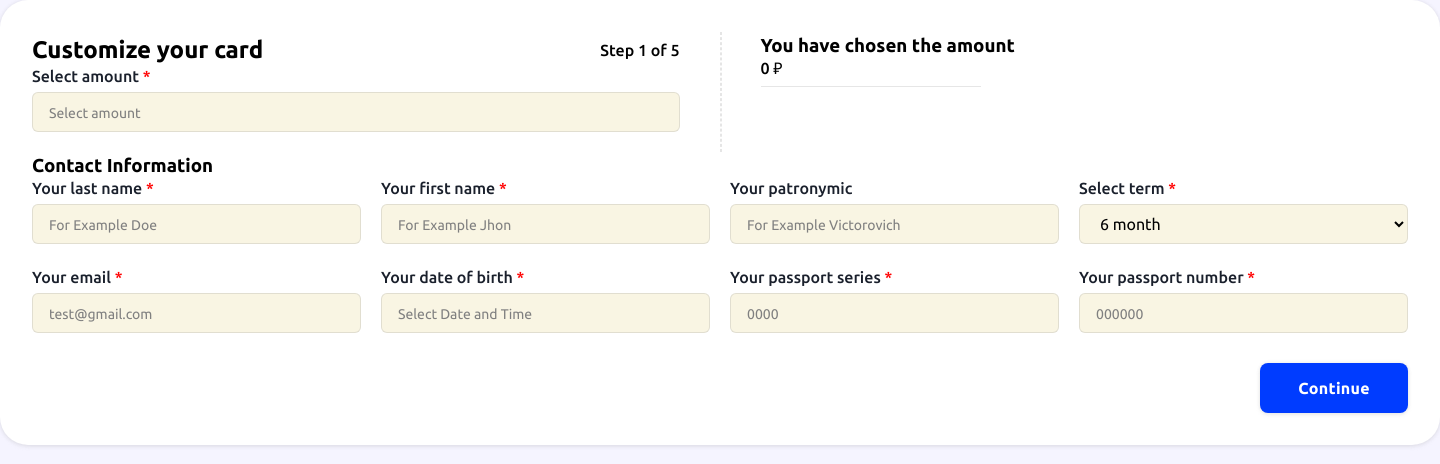
Prescoring › Invalid date of date birth
Click the button: point(1334, 388) [1260,363,1408,413]
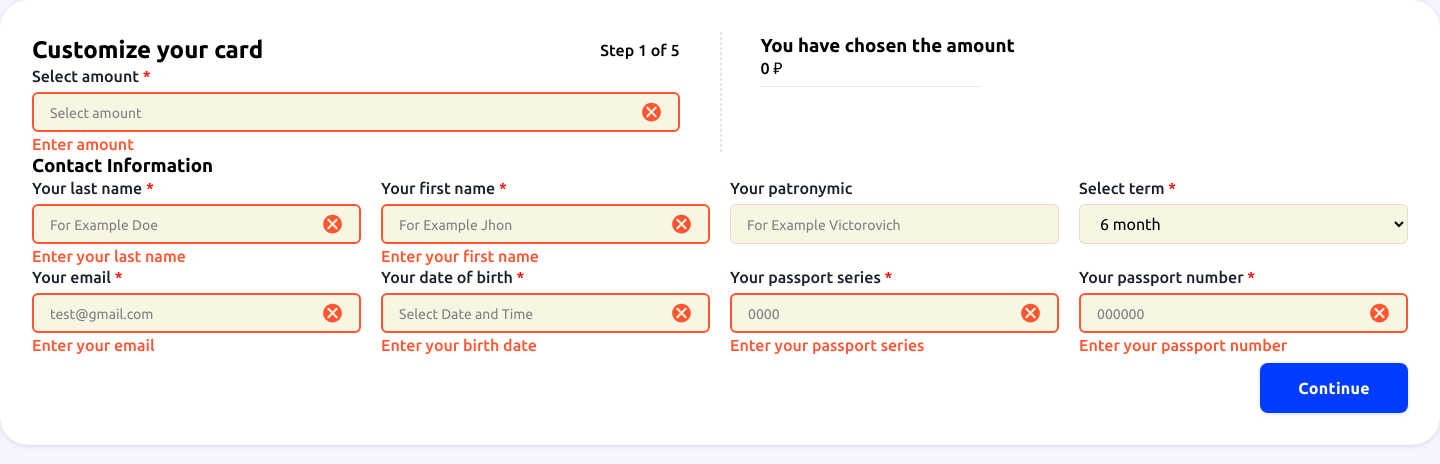
In the field with placeholder "Select Date and Time": point(546, 313) [381,293,710,333], type "2000-01-01"
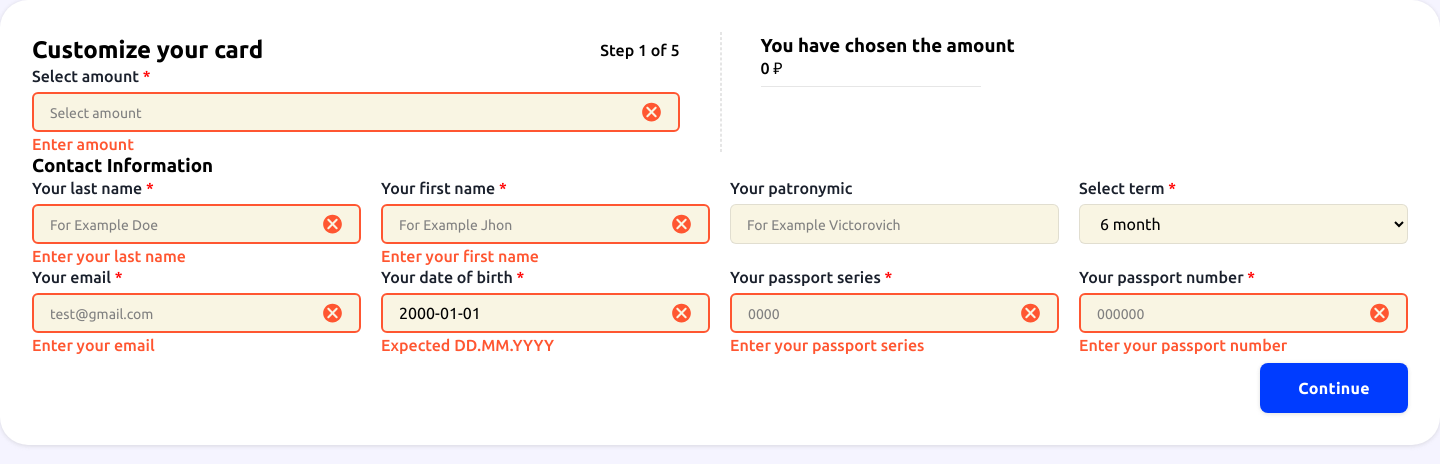
Expected: the text "Expected DD.MM.YYYY" is shown, [381,337,554,353]
Replace the text in the field with placeholder "Select Date and Time" with "date and time": point(546, 313) [381,293,710,333]
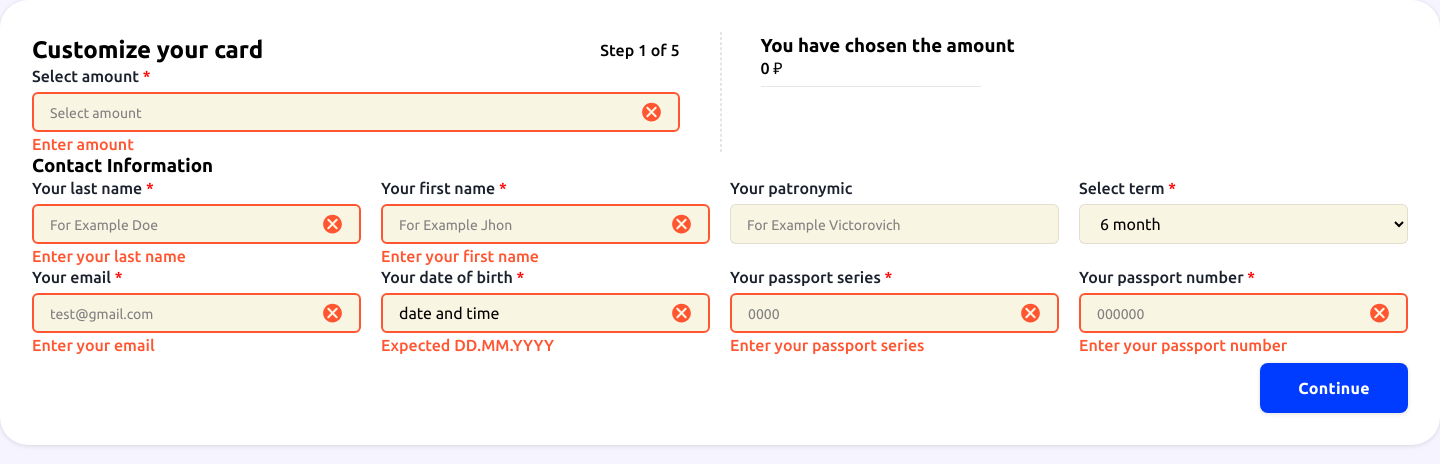
Expected: the text "Expected DD.MM.YYYY" is shown, [381,337,554,353]
Replace the text in the field with placeholder "Select Date and Time" with "40.10.2000": point(546, 313) [381,293,710,333]
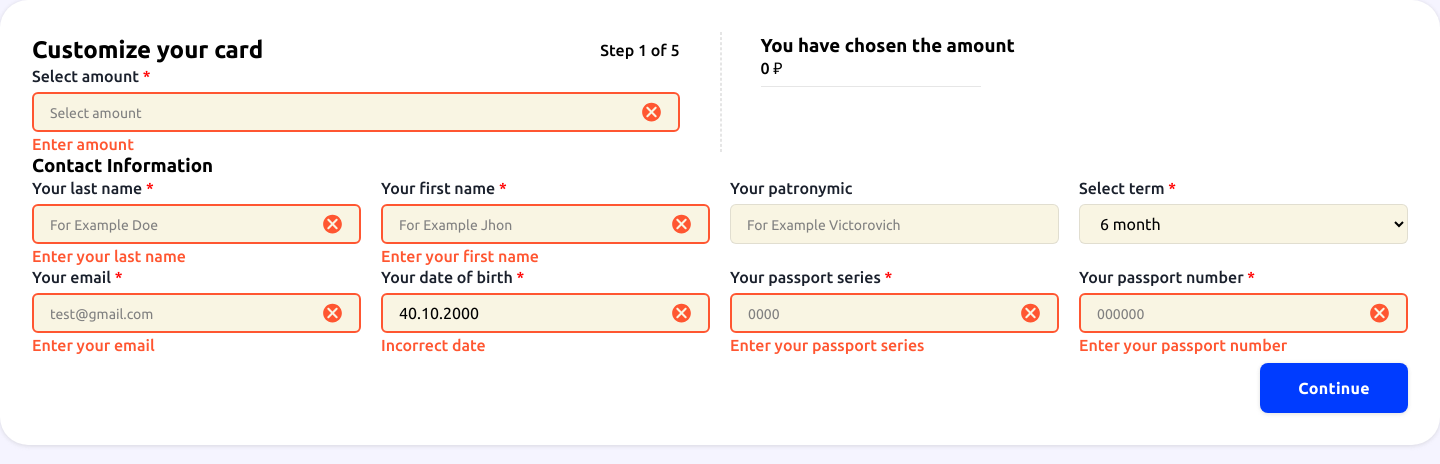
Expected: the text "Incorrect date" is shown, [381,337,486,353]
Replace the text in the field with placeholder "Select Date and Time" with "19.01.2025": point(546, 313) [381,293,710,333]
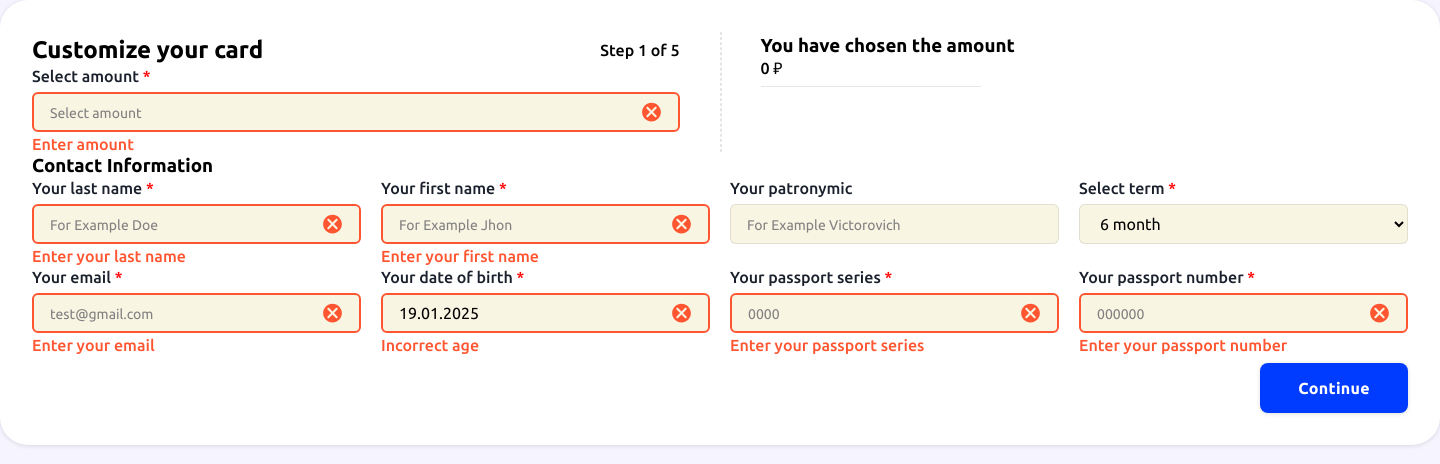
Expected: the text "Incorrect age" is shown, [381,337,479,353]
